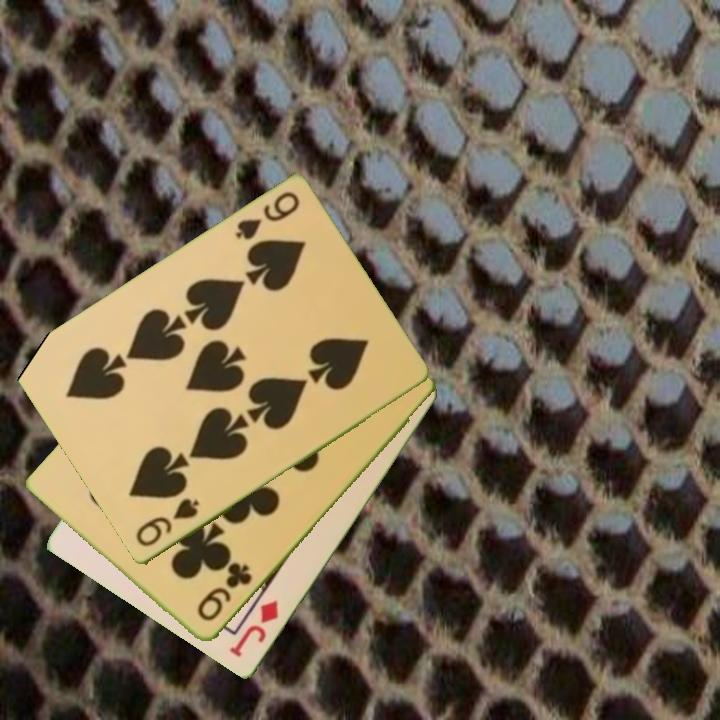9c: (193, 560, 255, 625)
9s: (231, 188, 303, 244), (132, 495, 202, 551)
Jd: (225, 597, 282, 661)
